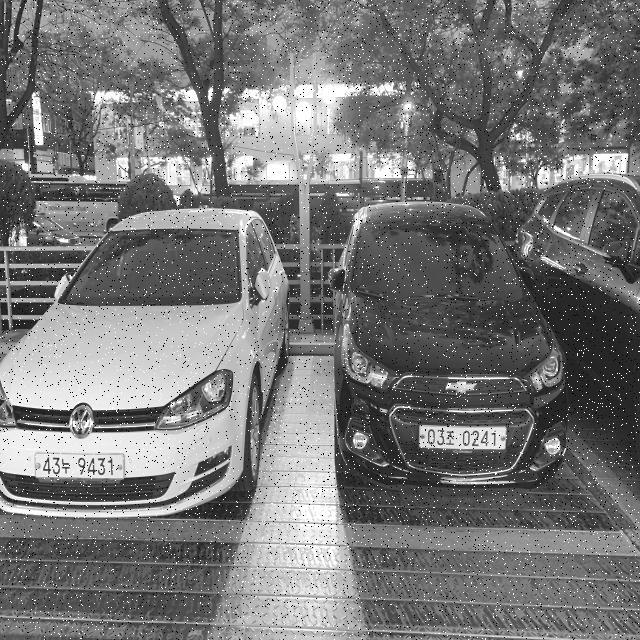occupied: (320, 181, 599, 563), (0, 184, 258, 550)
